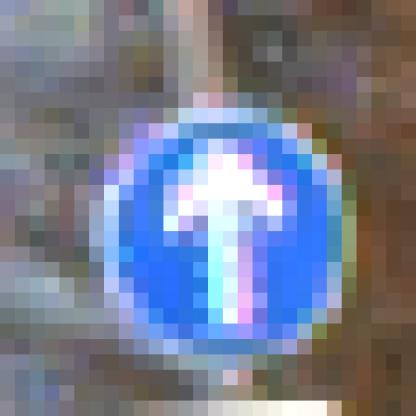AheadOnly: (75, 78, 328, 325)
